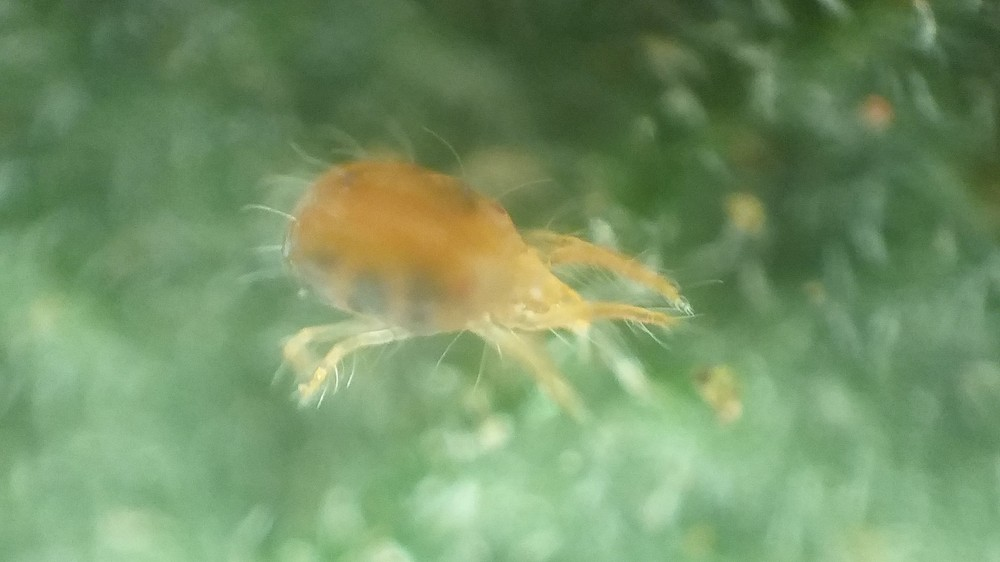Aracnido Rojo: (221, 117, 722, 466)
